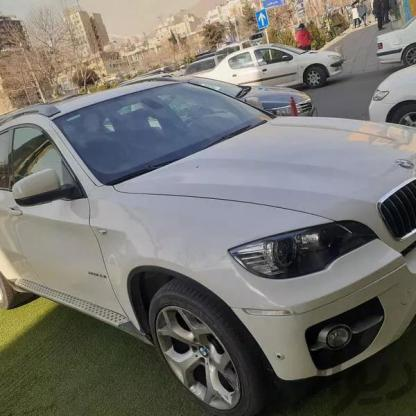Car: (0, 93, 416, 416), (172, 38, 334, 104), (369, 62, 416, 150), (360, 15, 416, 81)
